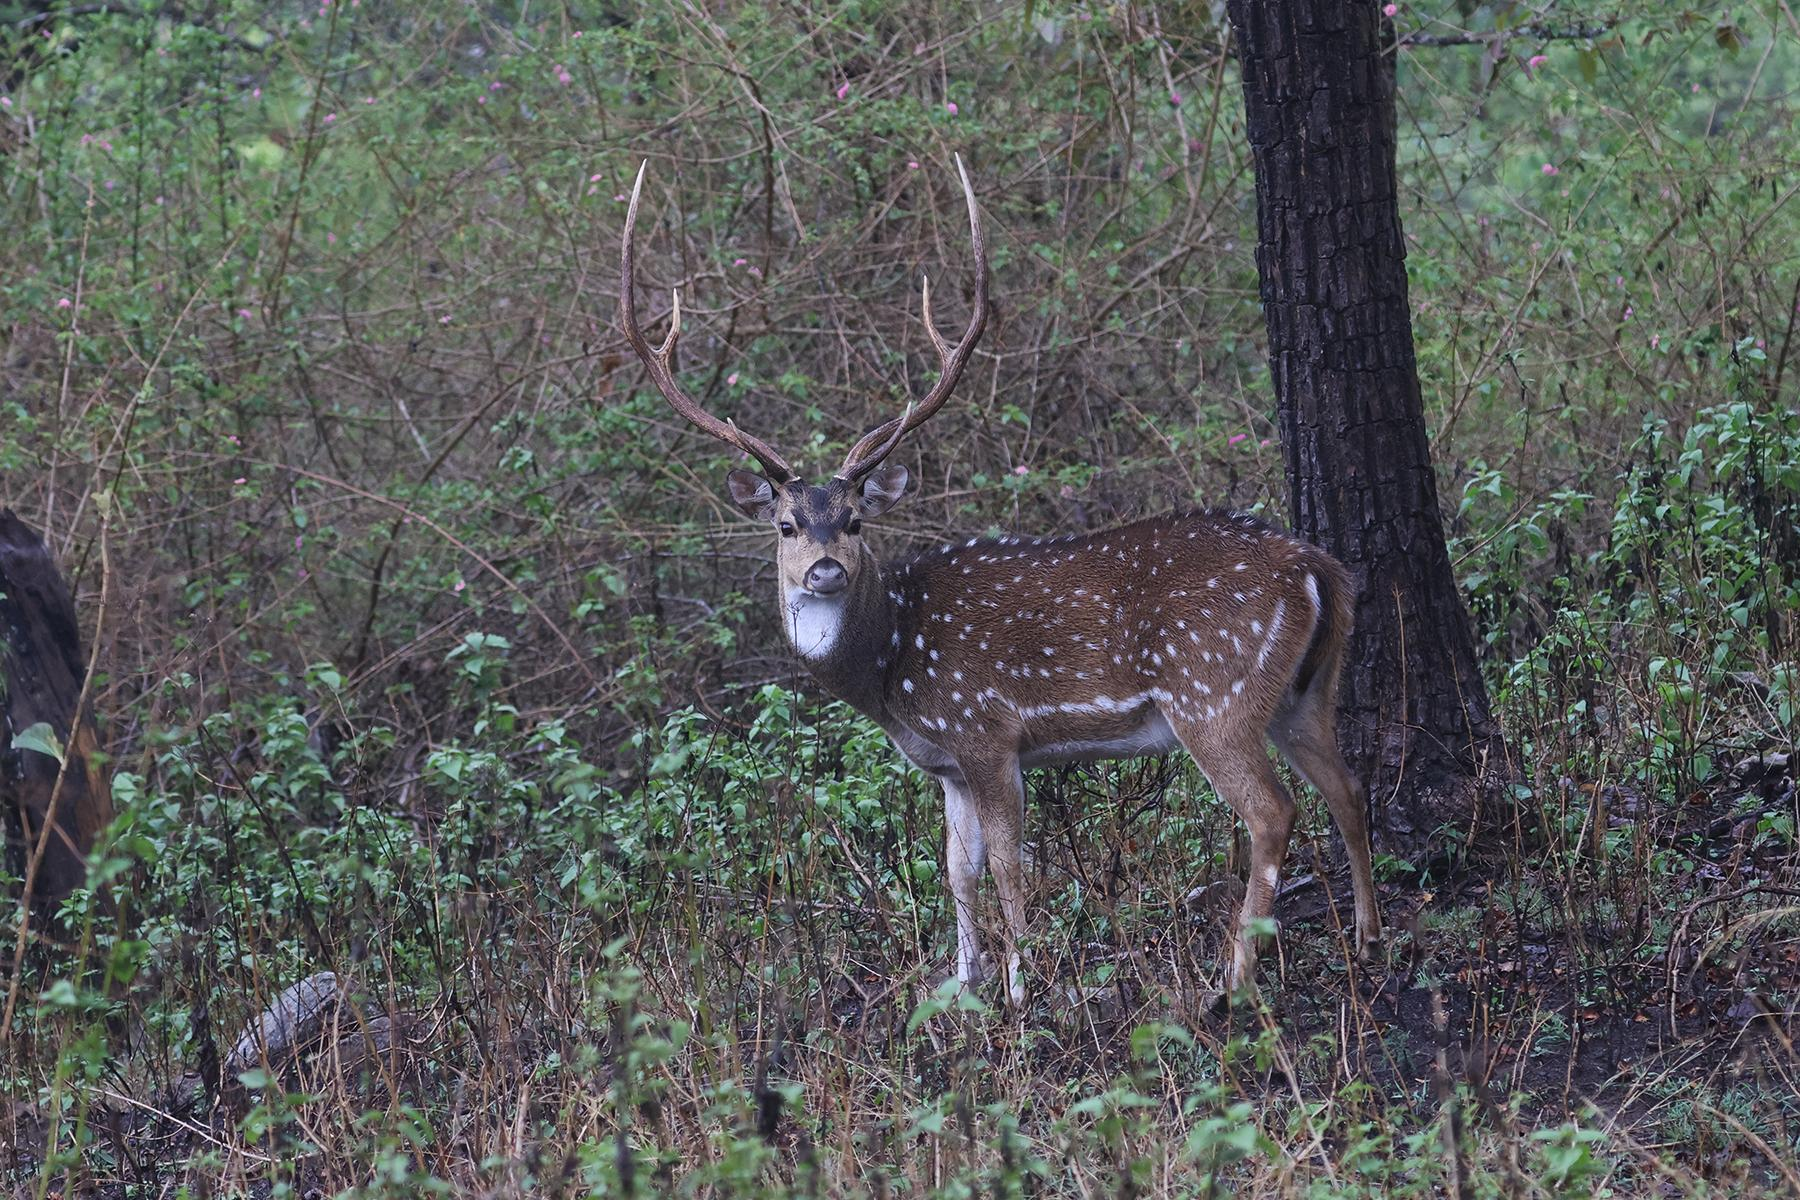Deer: (617, 157, 1379, 1004)
